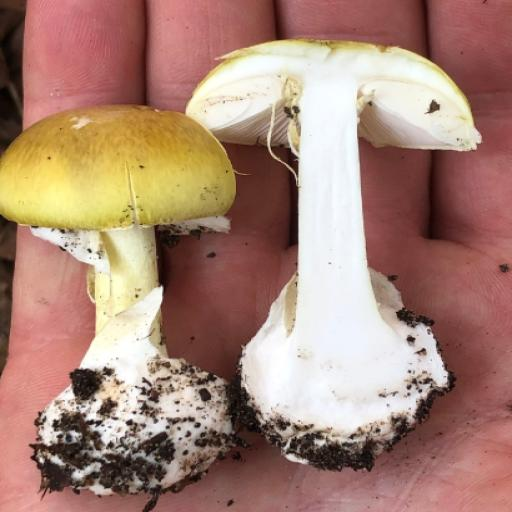Death Cap: (145, 21, 489, 477), (0, 107, 232, 499)
